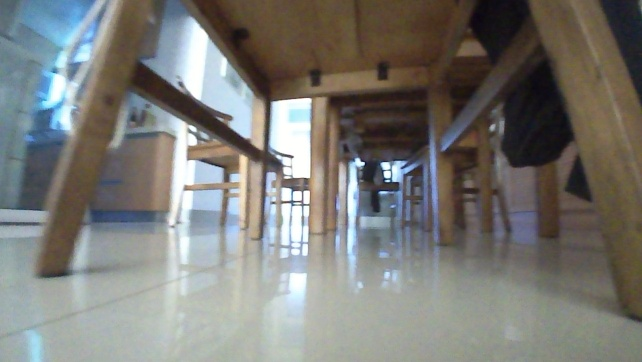cupboard: (21, 121, 176, 220)
dining_table1: (27, 0, 641, 326)
